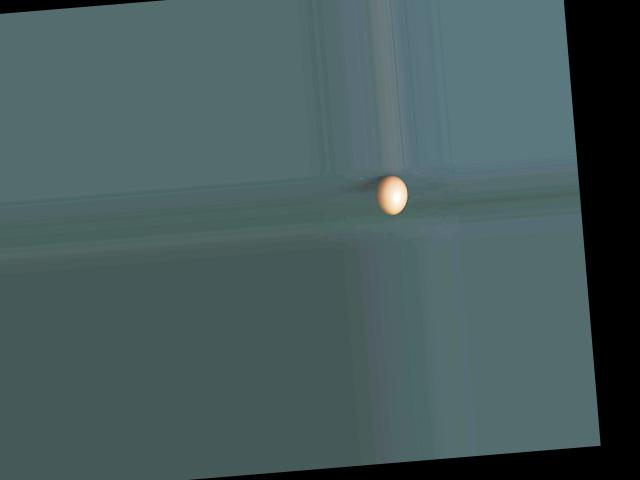egg: (375, 174, 408, 215)
